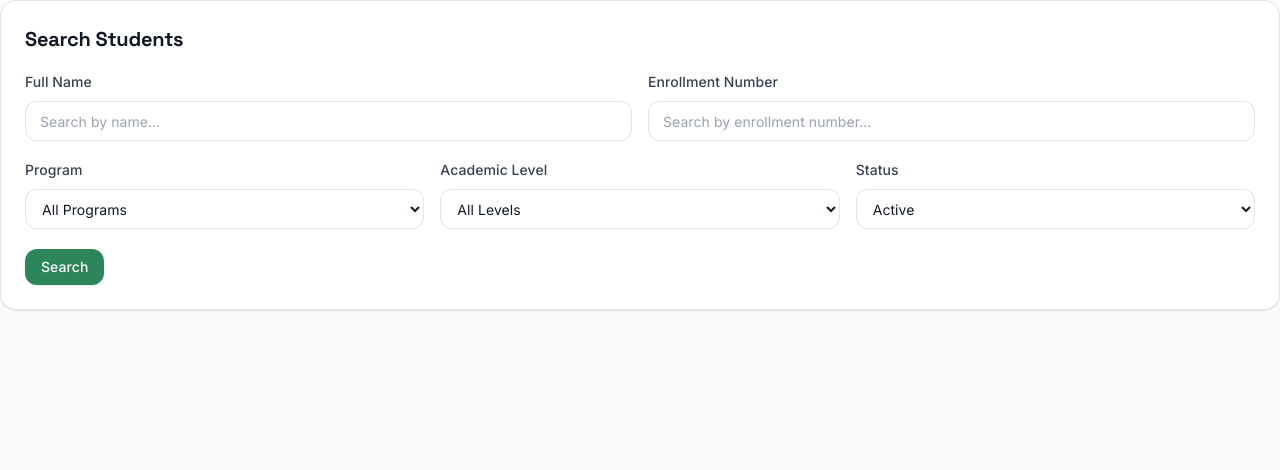
it: StudentSearch › displays no results message when search returns empty
Type "NONEXISTENT" into the field with placeholder "Search by enrollment number…" at coordinates (952, 121), box [648,101,1255,141]
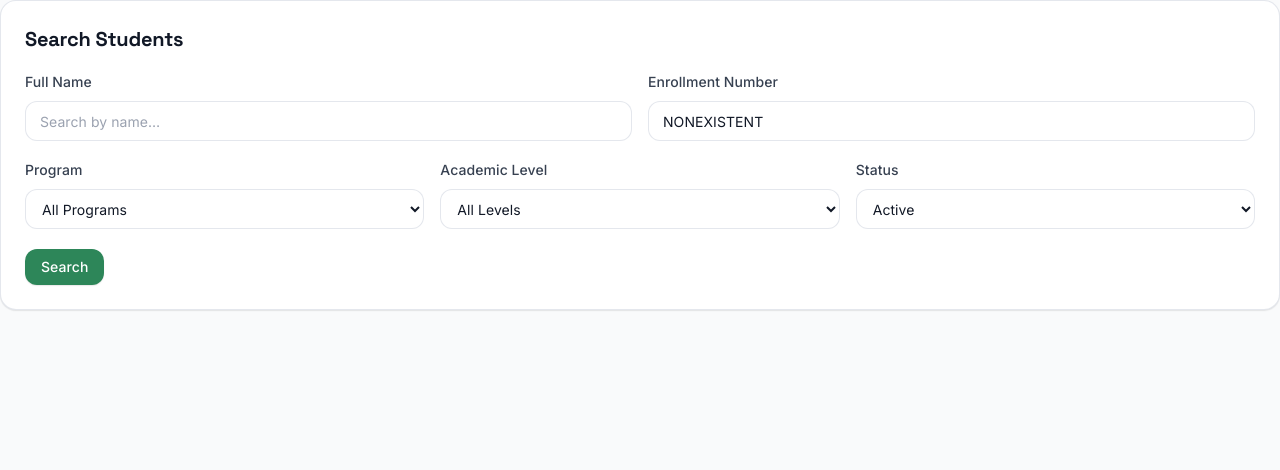
Click the button "Search" at coordinates (65, 267), box [25,249,104,285]
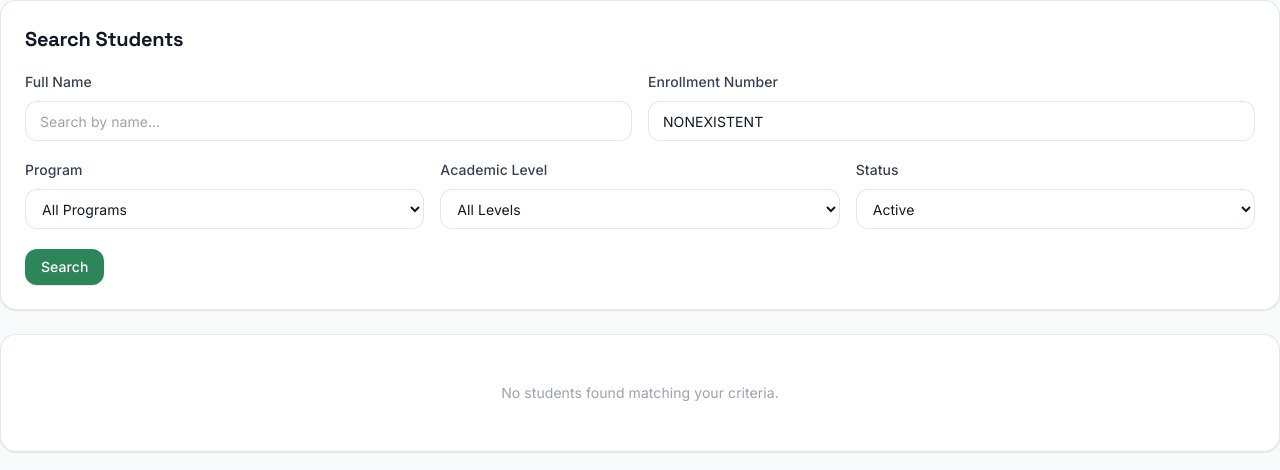
Result: the text "No students found matching your criteria." is shown at [501,384,779,401]
